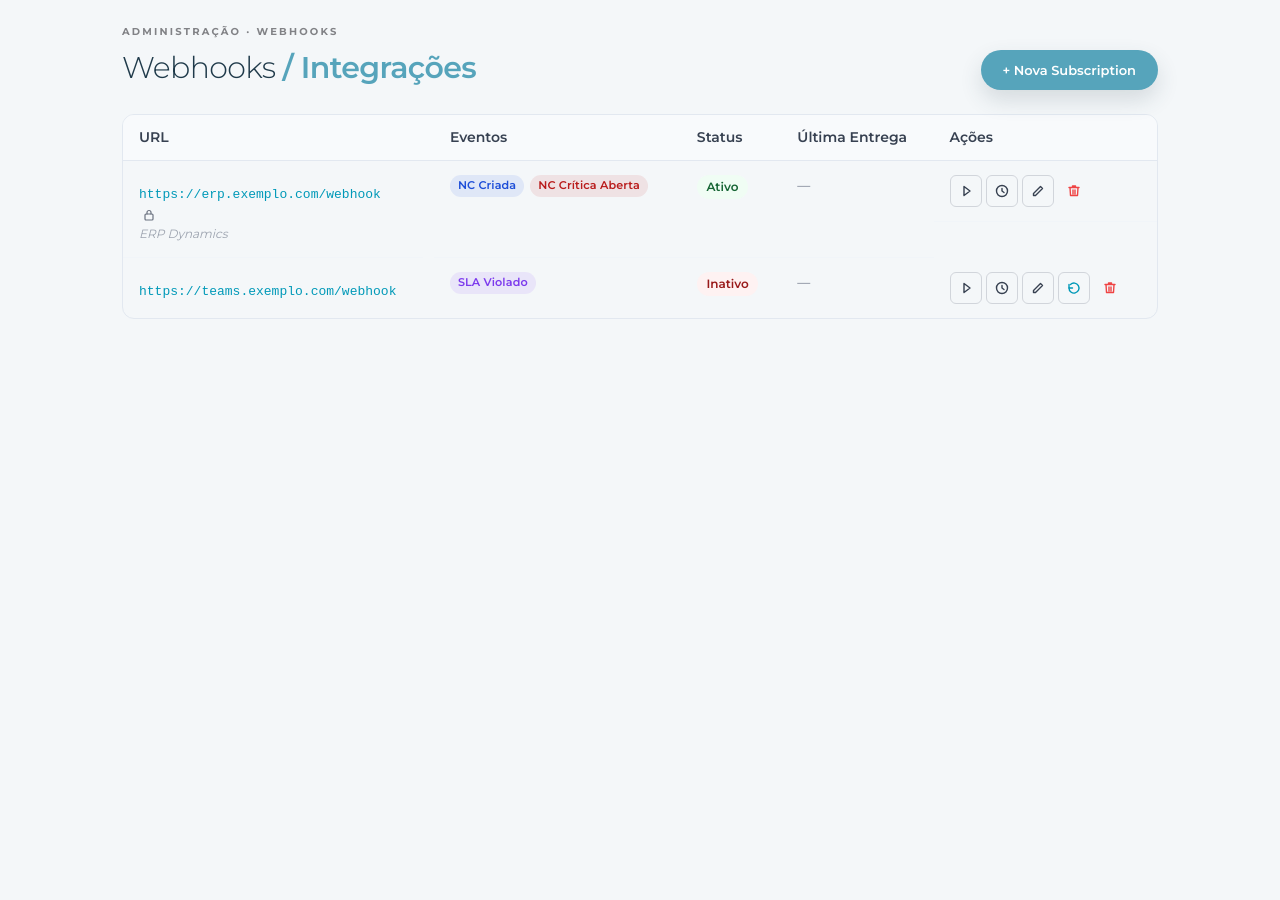
it: WebhooksComponent › Spec 5 — confirmar exclusão chama service.delete() › should show delete dialog when delete button is clicked
The width and height of the screenshot is (1280, 900).
Click the button named "Excluir webhook" in the row of "https://erp.exemplo.com/webhook" at (1074, 191), box x1=1058 y1=175 x2=1090 y2=207
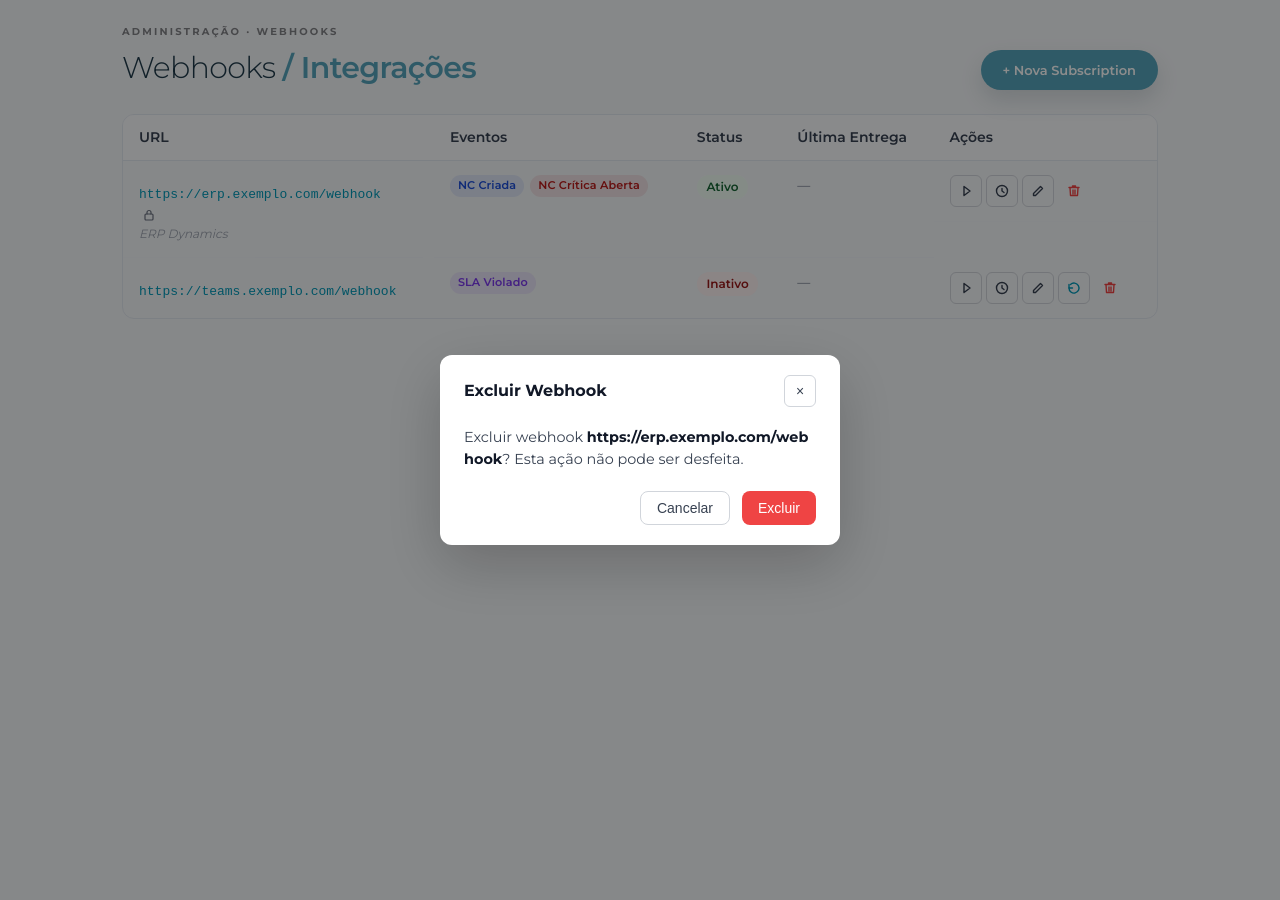
Check: the dialog with test id "delete-dialog" is shown, box x1=440 y1=355 x2=840 y2=545
